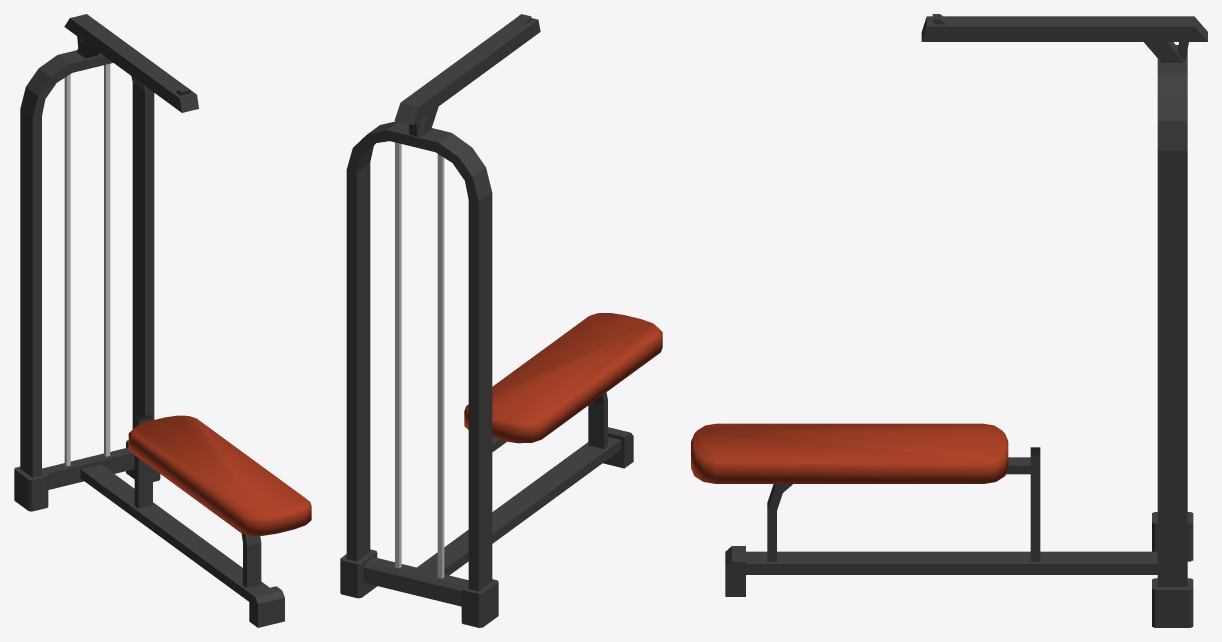
File: E_Machine_2.fbx
The picture shows the model from 3 angles, left to right: view 1: azimuth 30°, elevation 25°; view 2: azimuth 150°, elevation 25°; view 3: azimuth 270°, elevation 25°; orthographic projection. The views are drawn at different scales.
Visible parts, largest first — view 1: E_Machine_2; view 2: E_Machine_2; view 3: E_Machine_2.
Boxes of the visible parts, left/top/right/bottom form: E_Machine_2: left=14, top=14, right=311, bottom=627; E_Machine_2: left=340, top=14, right=662, bottom=627; E_Machine_2: left=691, top=14, right=1207, bottom=627.
Bounding box in the file's own units: 62.27 × 213 × 174.
